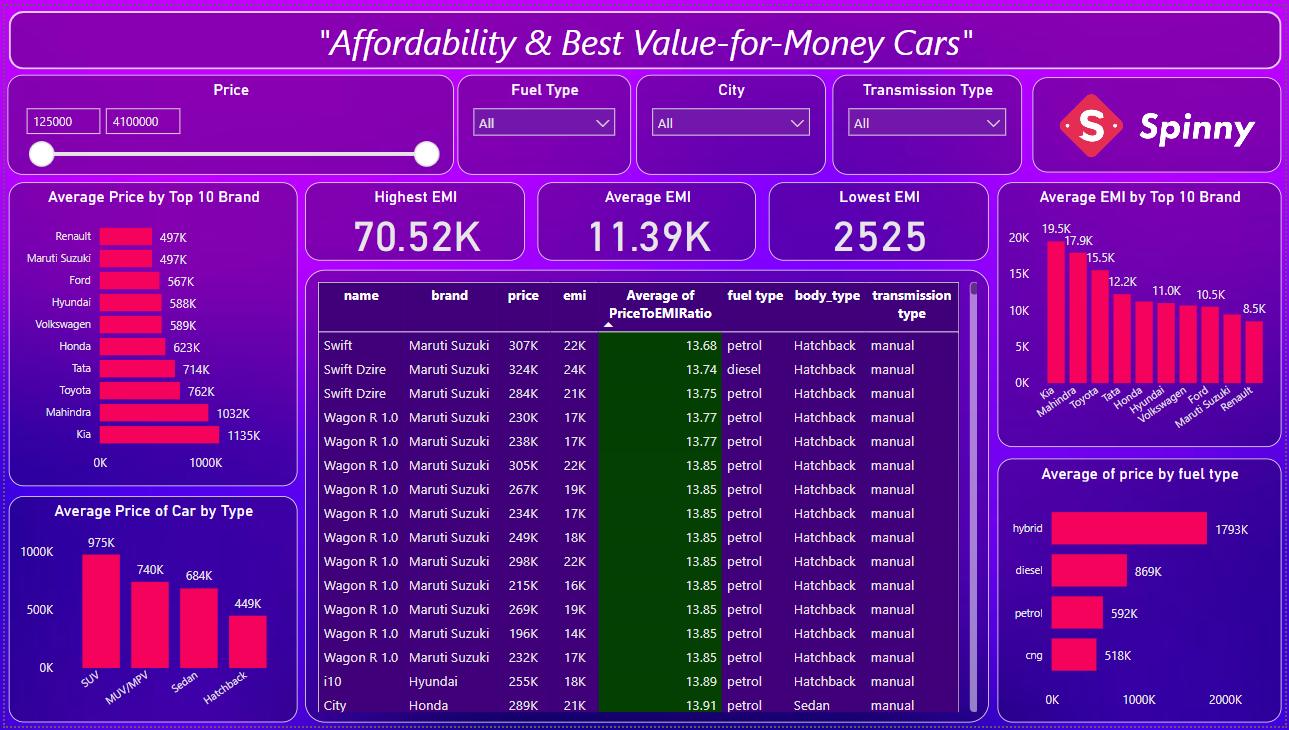

The dashboard page shown, as its layout file describes it:
{"tool":"powerbi","page":{"name":"Page 2","canvas":[1280,720],"ordinal":1},"visuals":[{"type":"clusteredBarChart","title":"Average Price by Top 10 Brand","fields":{"Category":["Spinny_Data.brand"],"Y":["Avg(Spinny_Data.price)"]},"box":[3.8,176.2,288.8,303.8],"z":0},{"type":"clusteredColumnChart","title":"Average EMI by Top 10 Brand","fields":{"Category":["Spinny_Data.brand"],"Y":["Avg(Spinny_Data.emi)"]},"box":[992.5,176.2,283.8,265],"z":1000},{"type":"clusteredColumnChart","title":"Average Price of Car by Type","fields":{"Category":["Spinny_Data.body_type"],"Y":["Avg(Spinny_Data.price)"]},"box":[3.8,490,288.8,226.2],"z":2000},{"type":"card","title":"Lowest EMI","fields":{"Values":["Min(Spinny_Data.emi)"]},"box":[763.8,176.2,220,78.8],"z":3000},{"type":"card","title":"Highest EMI","fields":{"Values":["Max(Spinny_Data.emi)"]},"box":[300,176.2,220,78.8],"z":4000},{"type":"card","title":"Average EMI","fields":{"Values":["Avg(Spinny_Data.emi)"]},"box":[532.5,176.2,218.8,78.8],"z":5000},{"type":"slicer","title":"Price","fields":{"Values":["Spinny_Data.price"]},"box":[2.4,68.5,446.2,100.2],"z":6000},{"type":"slicer","title":"City","fields":{"Values":["Spinny_Data.location"]},"box":[631.8,68.5,189.5,100.2],"z":7000},{"type":"slicer","title":"Fuel Type","fields":{"Values":["Spinny_Data.fuel type"]},"box":[452.1,68.5,173.6,100.2],"z":8000},{"type":"tableEx","fields":{"Values":["Spinny_Data.name","Spinny_Data.brand","Sum(Spinny_Data.price)1","Spinny_Data.emi","Avg(Spinny_Data.PriceToEMIRatio)","Spinny_Data.fuel type","Spinny_Data.body_type","Spinny_Data.transmission type"]},"box":[300,263.8,683.8,452.5],"z":9000},{"type":"clusteredBarChart","fields":{"Category":["Spinny_Data.fuel type"],"Y":["Avg(Spinny_Data.price)"]},"box":[992.5,452.5,283.8,263.8],"z":10000},{"type":"image","box":[1027.5,71.2,248.8,95],"z":11000},{"type":"shape","box":[3.8,5,1272.5,58.8],"z":12000},{"type":"slicer","title":"Transmission Type","fields":{"Values":["Spinny_Data.transmission type"]},"box":[827.3,68.5,189.5,100.2],"z":13000}]}

Visuals, with their boxes in screenshot pixels (x1, y1, x2, y2), scaled from the page's 1280x720 canvas onto the 1289x730 screenshot:
"Average Price by Top 10 Brand" clusteredBarChart: 4:179:295:487
"Average EMI by Top 10 Brand" clusteredColumnChart: 999:179:1285:447
"Average Price of Car by Type" clusteredColumnChart: 4:497:295:726
"Lowest EMI" card: 769:179:991:259
"Highest EMI" card: 302:179:524:259
"Average EMI" card: 536:179:757:259
"Price" slicer: 2:69:452:171
"City" slicer: 636:69:827:171
"Fuel Type" slicer: 455:69:630:171
tableEx - Spinny_Data.name x Spinny_Data.brand: 302:267:991:726
clusteredBarChart - Spinny_Data.fuel type x Avg(Spinny_Data.price): 999:459:1285:726
image: 1035:72:1285:169
shape: 4:5:1285:65
"Transmission Type" slicer: 833:69:1024:171
